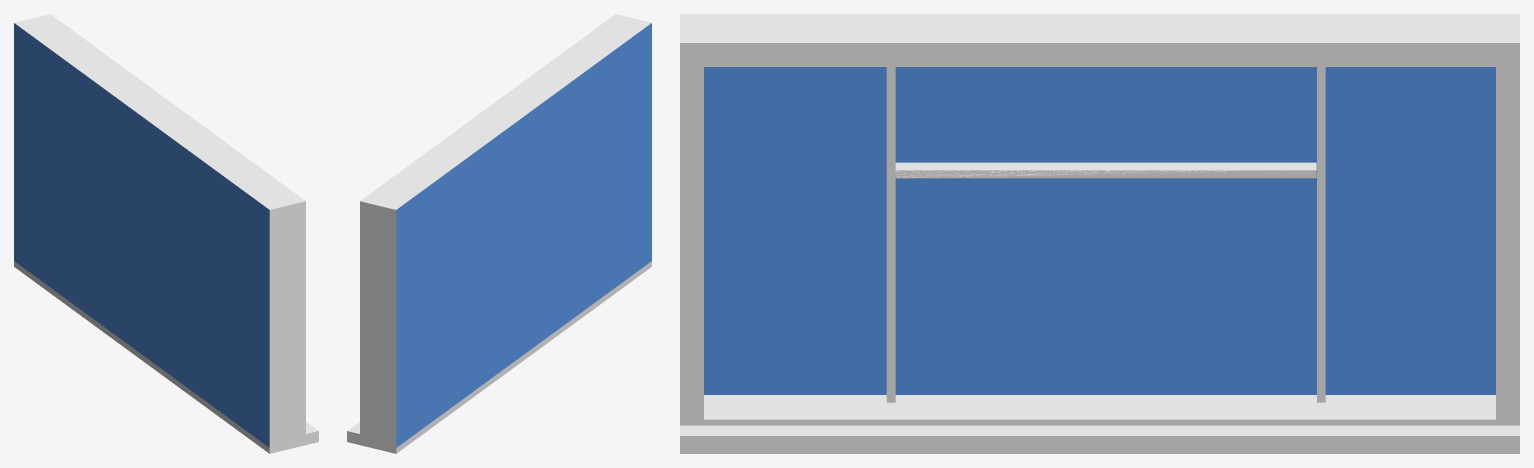
The model's file is GAMEJAMHERO - Window(Large2).fbx.
The picture shows the model from 3 angles, left to right: view 1: azimuth 30°, elevation 25°; view 2: azimuth 150°, elevation 25°; view 3: azimuth 270°, elevation 25°; orthographic projection. The views are drawn at different scales.
Parts seen in each view (by area): view 1: Window Large2; view 2: Window Large2; view 3: Window Large2.
Boxes of the visible parts, <box> form: Window Large2: <box>14,14,318,453</box>; Window Large2: <box>347,14,651,453</box>; Window Large2: <box>680,14,1519,453</box>.
Size of the model in its own units: 32.51 by 154 by 293.
Materials: 1 (1 with a texture image).
